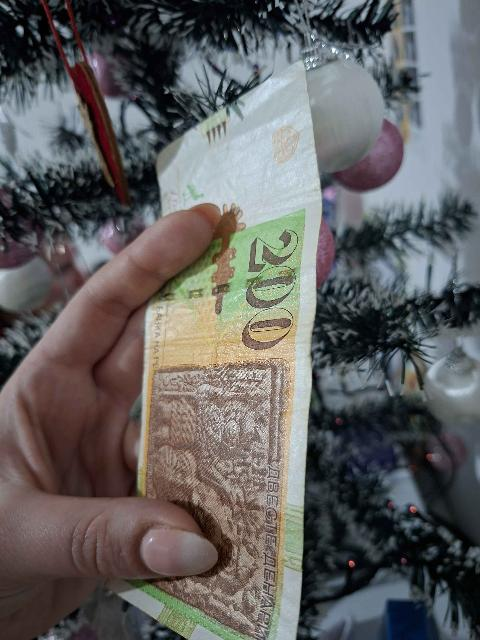note: (110, 65, 324, 639)
